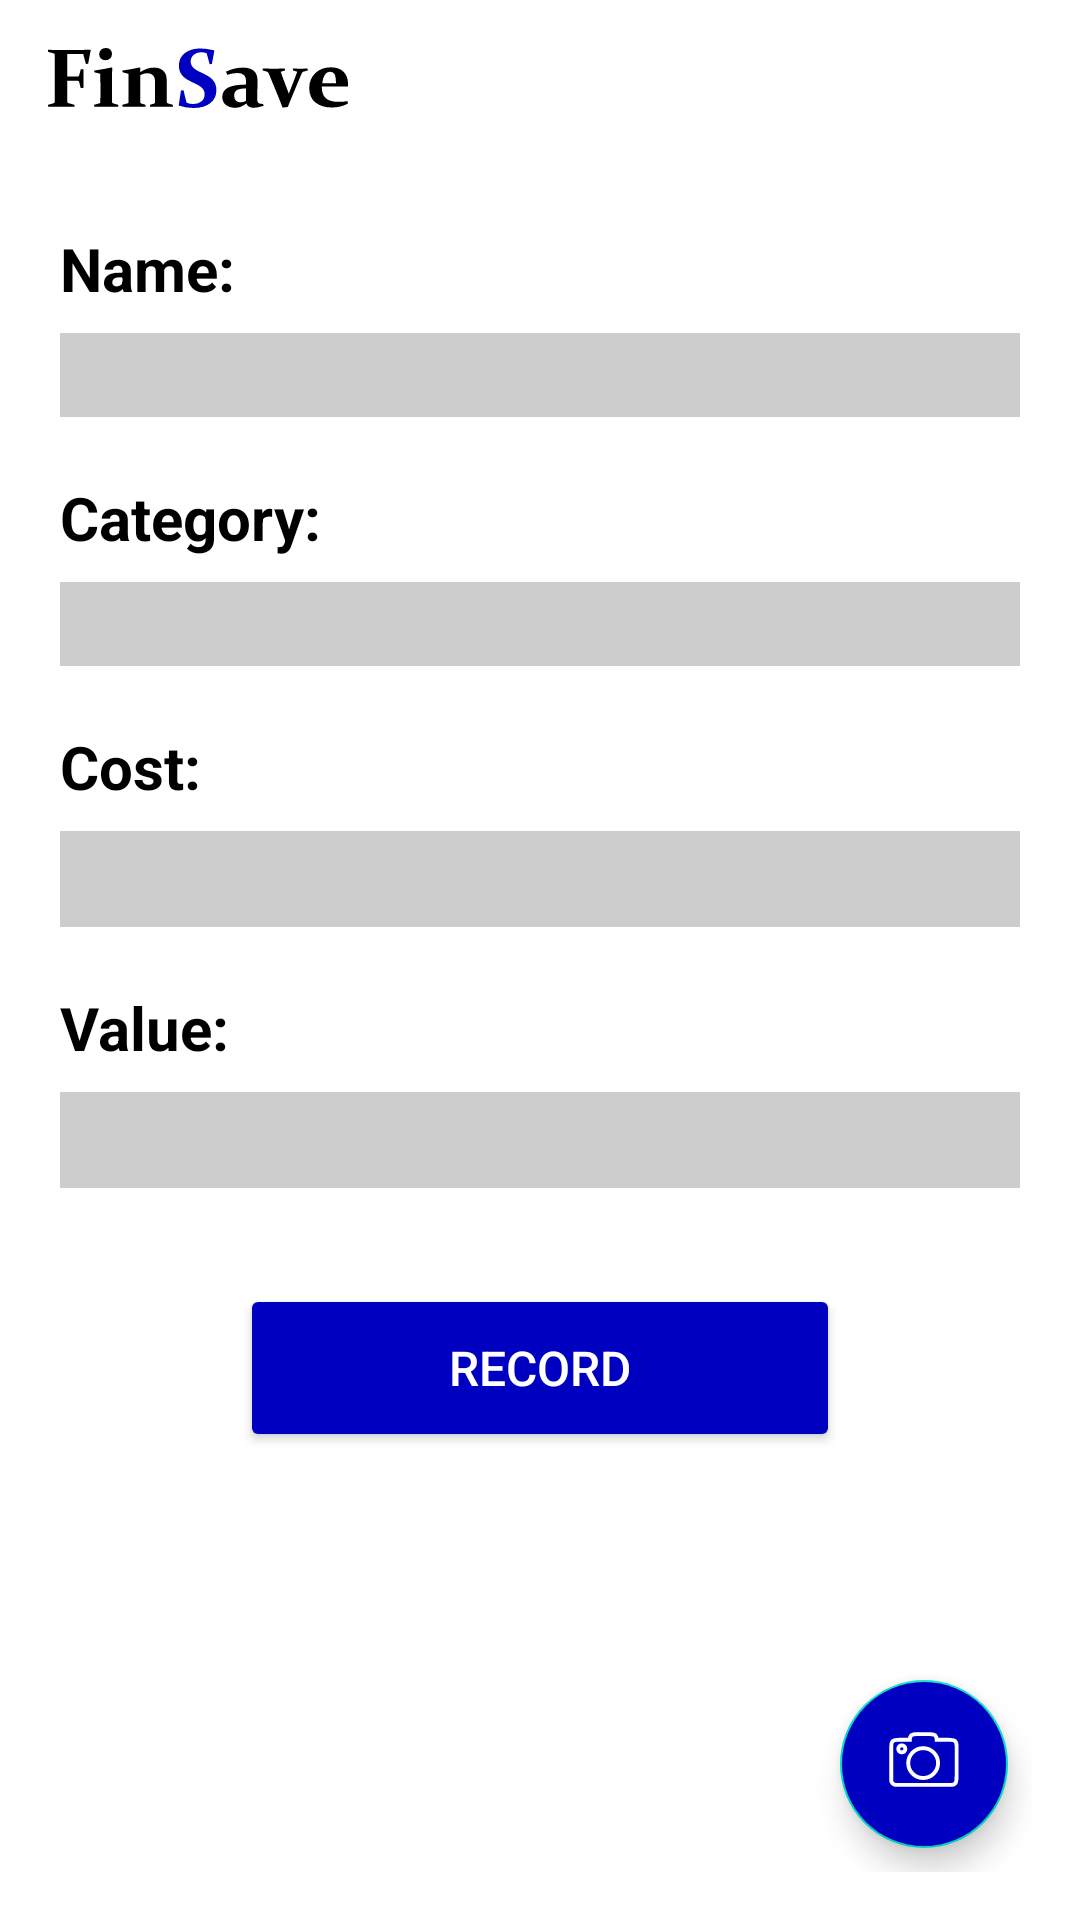

Named icons in this screenshot (1080x1920) and their centers, point (x, y):
camera: point (924, 1764)
